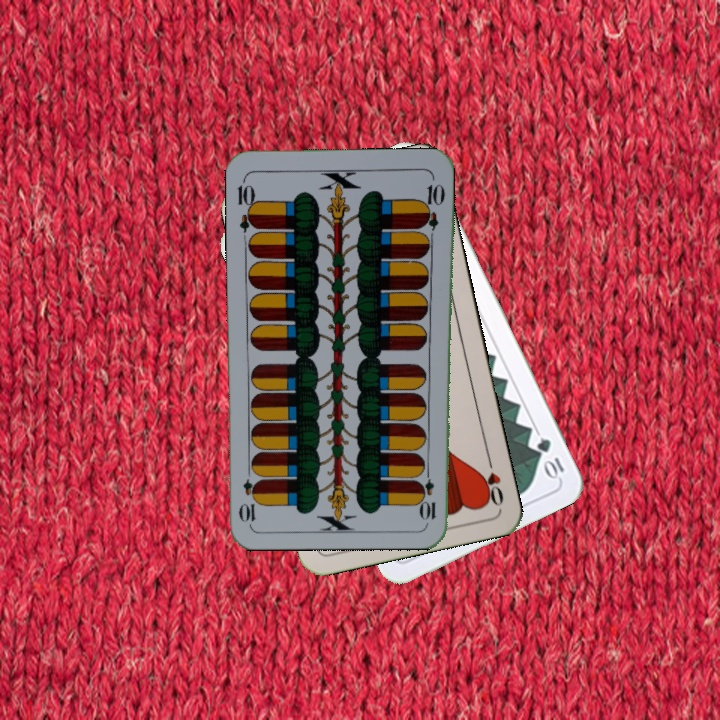E10: (234, 175, 260, 234), (420, 463, 440, 522)
G10: (533, 434, 567, 482)
HO: (478, 451, 506, 509)
